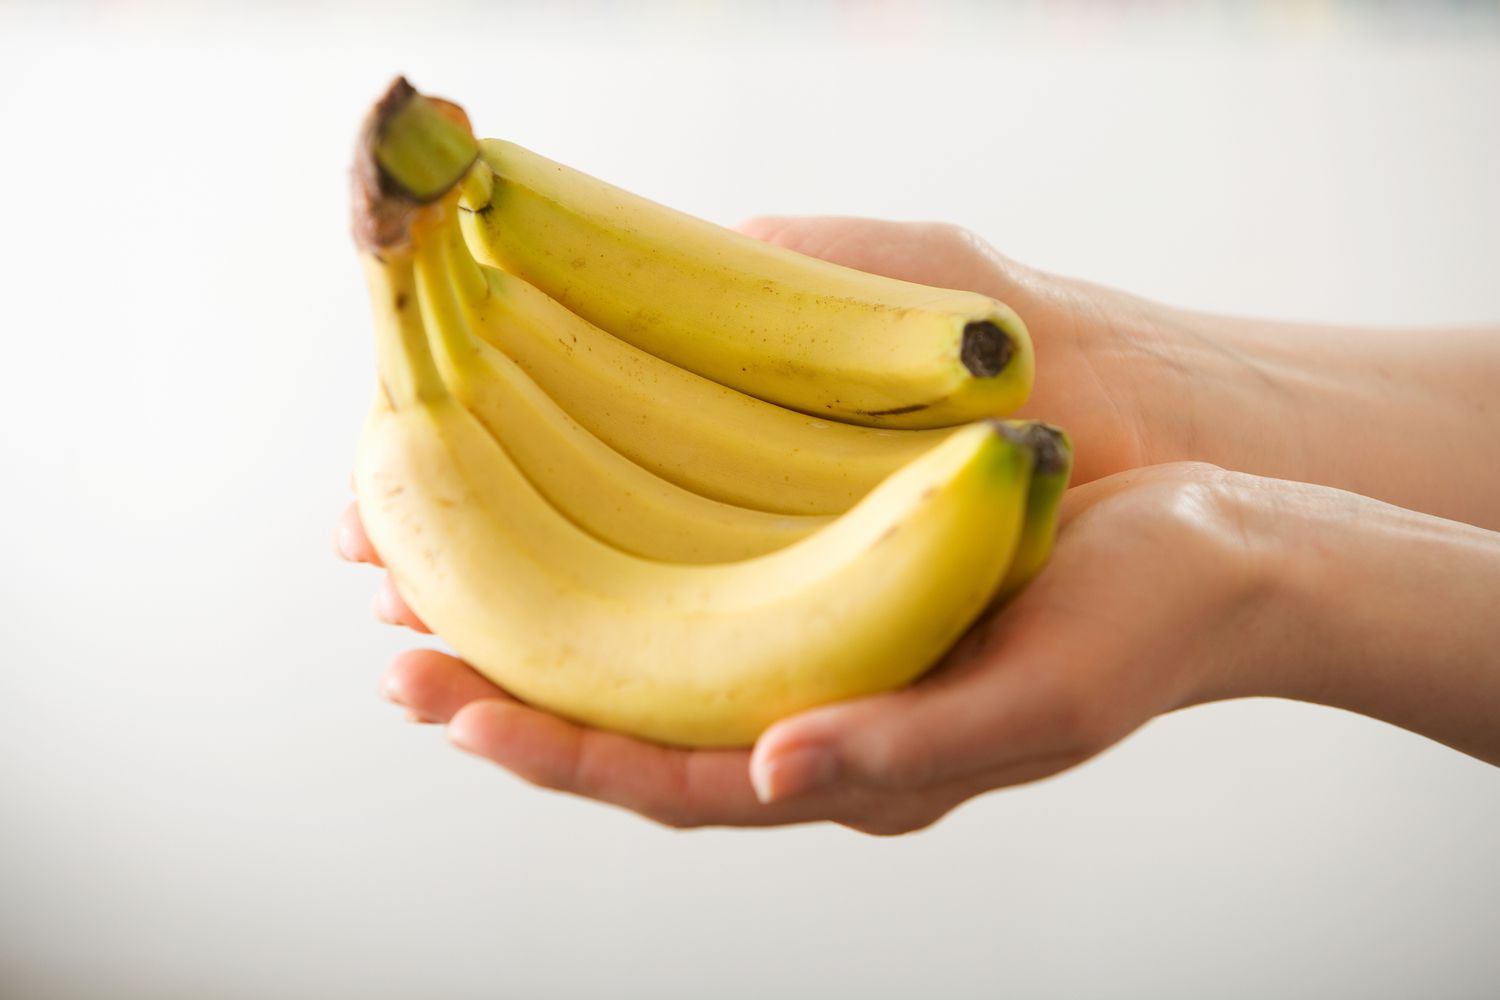banana: (342, 67, 1076, 760)
